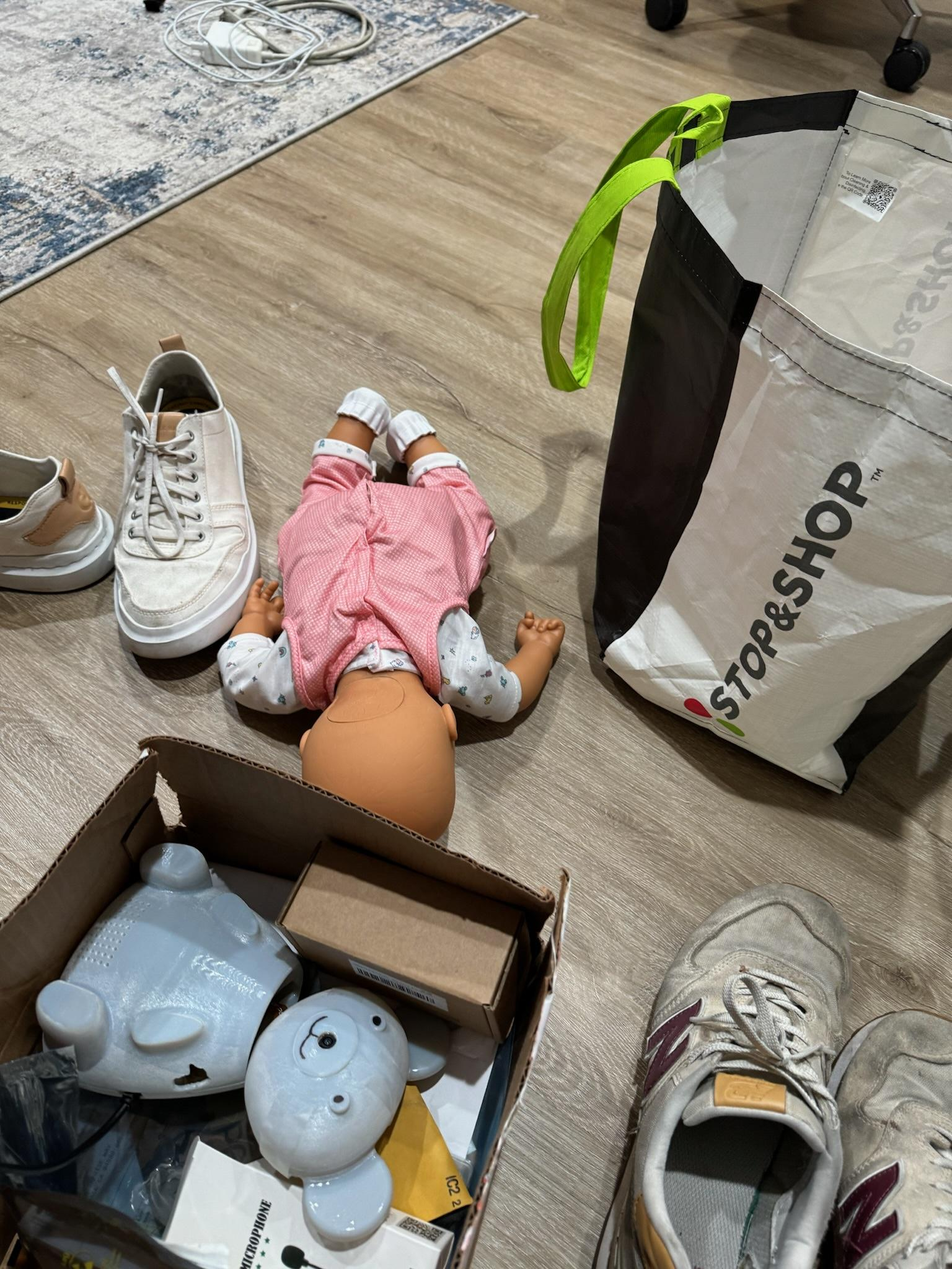baby: (231, 364, 574, 861)
